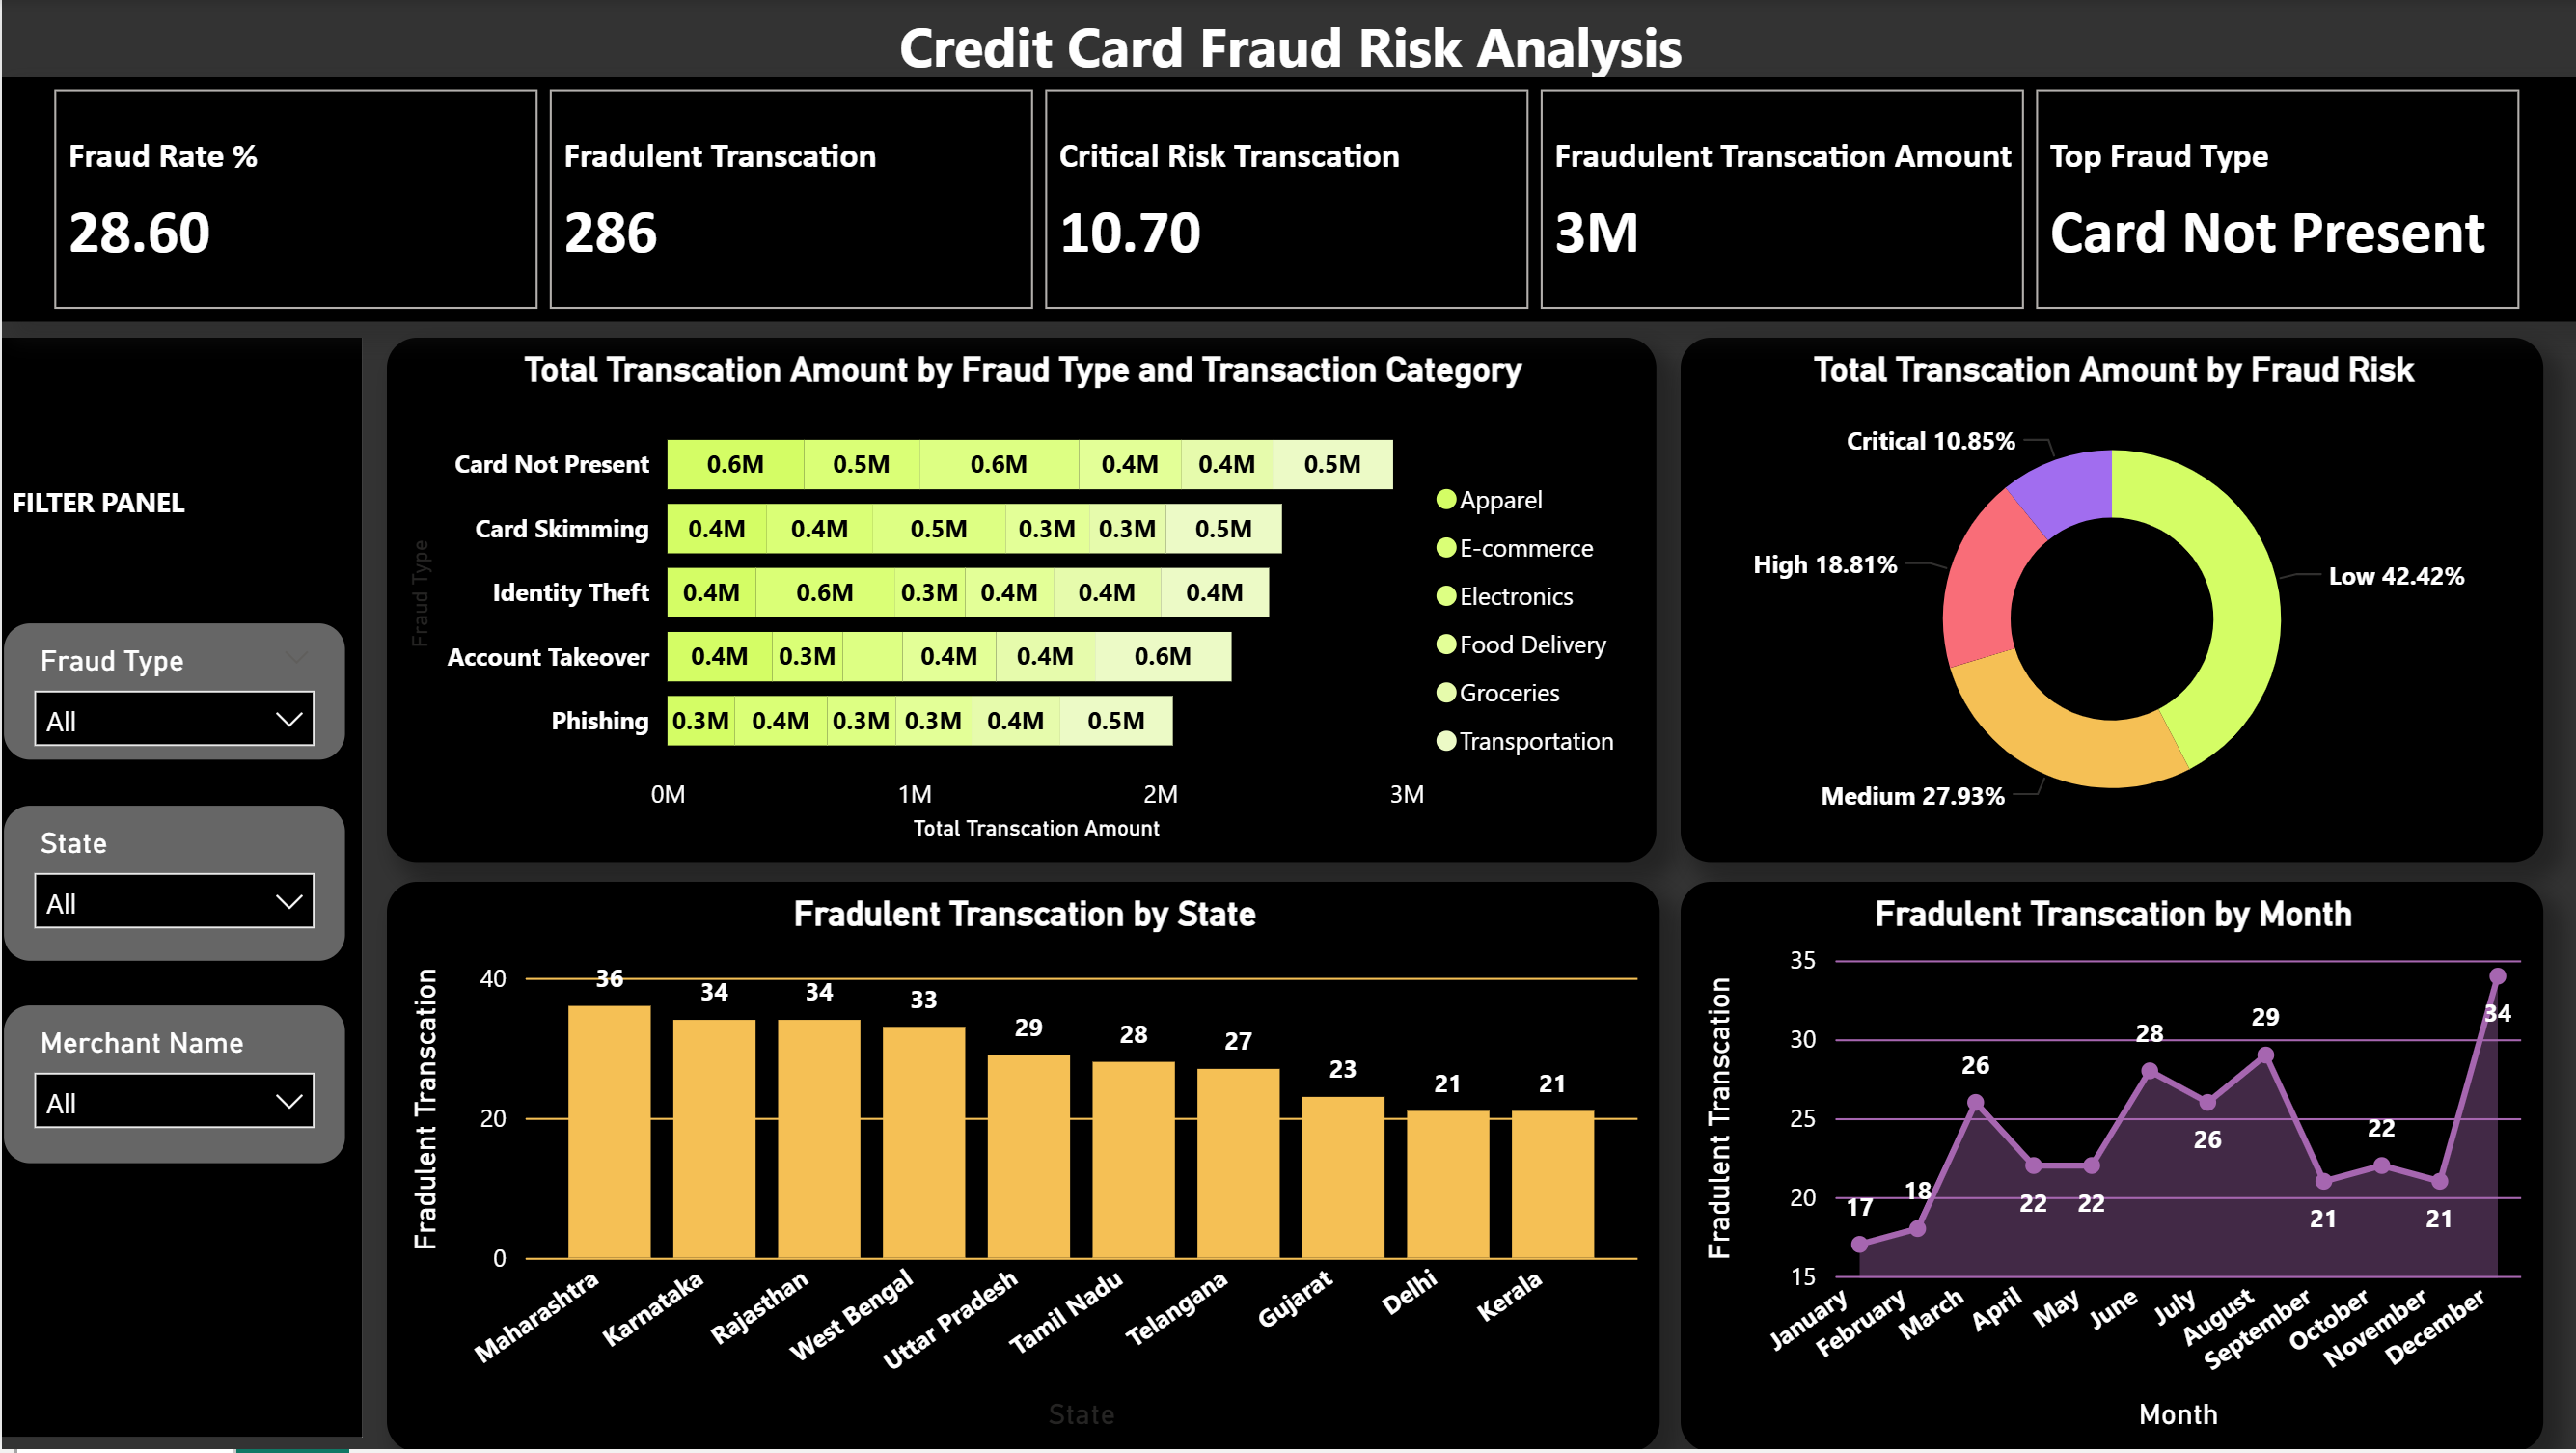

The page's visual inventory and layout, read from the dashboard file:
{"tool":"powerbi","page":{"name":"Page 1","canvas":[1280,720],"ordinal":0},"visuals":[{"type":"textbox","box":[0,0,1280,62.2],"z":0},{"type":"shape","box":[0,168.3,179,546],"z":1000},{"type":"textbox","box":[0,235.1,128.9,36.4],"z":2000},{"type":"barChart","fields":{"Series":["Credit Card Fraud Risk Analysis.Transaction Category"],"Category":["Credit Card Fraud Risk Analysis.Fraud Type"],"Y":["Credit Card Fraud Risk Analysis.Total Transcation Amount"]},"box":[190.6,167.9,630.2,260.4],"z":3000},{"type":"donutChart","fields":{"Y":["Credit Card Fraud Risk Analysis.Total Transcation Amount"],"Category":["Credit Card Fraud Risk Analysis.Fraud Risk"]},"box":[834,167.9,428.3,260.4],"z":4000},{"type":"columnChart","fields":{"Category":["Credit Card Fraud Risk Analysis.State"],"Y":["Credit Card Fraud Risk Analysis.Fradulent Transcation"]},"box":[190.6,437.7,632.1,283],"z":5000},{"type":"lineChart","fields":{"Y":["Credit Card Fraud Risk Analysis.Fradulent Transcation"],"Category":["Credit Card Fraud Risk Analysis.Transaction Date.Variation.Date Hierarchy.Month"]},"box":[834,437.7,428.3,283],"z":6000},{"type":"slicer","fields":{"Values":["Credit Card Fraud Risk Analysis.Fraud Type"]},"box":[0,309.4,171.4,69.8],"z":7000},{"type":"slicer","fields":{"Values":["Credit Card Fraud Risk Analysis.State"]},"box":[0,398.9,171.4,78.9],"z":8000},{"type":"slicer","fields":{"Values":["Credit Card Fraud Risk Analysis.Merchant Name"]},"box":[0,499,171.4,80.4],"z":9000},{"type":"cardVisual","fields":{"Data":["Credit Card Fraud Risk Analysis.Fraud Rate %","Credit Card Fraud Risk Analysis.Fradulent Transcation","Credit Card Fraud Risk Analysis.Critical Risk Transcation","Credit Card Fraud Risk Analysis.Fraudulent Transcation Amount","Credit Card Fraud Risk Analysis.Top Fraud Type"]},"box":[0,39.4,1280,121.3],"z":10000}]}

Visuals, with their boxes in screenshot pixels (x1, y1, x2, y2), scaled from the page's 1280x720 canvas onto the 2576x1453 screenshot:
textbox: [x1=0, y1=0, x2=2575, y2=125]
shape: [x1=0, y1=340, x2=360, y2=1441]
textbox: [x1=0, y1=475, x2=260, y2=548]
barChart - Credit Card Fraud Risk Analysis.Transaction Category x Credit Card Fraud Risk Analysis.Fraud Type: [x1=384, y1=339, x2=1652, y2=864]
donutChart - Credit Card Fraud Risk Analysis.Total Transcation Amount x Credit Card Fraud Risk Analysis.Fraud Risk: [x1=1679, y1=339, x2=2540, y2=864]
columnChart - Credit Card Fraud Risk Analysis.State x Credit Card Fraud Risk Analysis.Fradulent Transcation: [x1=384, y1=884, x2=1656, y2=1452]
lineChart - Credit Card Fraud Risk Analysis.Fradulent Transcation x Credit Card Fraud Risk Analysis.Transaction Date.Variation.Date Hierarchy.Month: [x1=1679, y1=884, x2=2540, y2=1452]
slicer - Credit Card Fraud Risk Analysis.Fraud Type: [x1=0, y1=624, x2=345, y2=765]
slicer - Credit Card Fraud Risk Analysis.State: [x1=0, y1=805, x2=345, y2=964]
slicer - Credit Card Fraud Risk Analysis.Merchant Name: [x1=0, y1=1007, x2=345, y2=1169]
cardVisual - Credit Card Fraud Risk Analysis.Fraud Rate % x Credit Card Fraud Risk Analysis.Fradulent Transcation: [x1=0, y1=79, x2=2575, y2=324]
